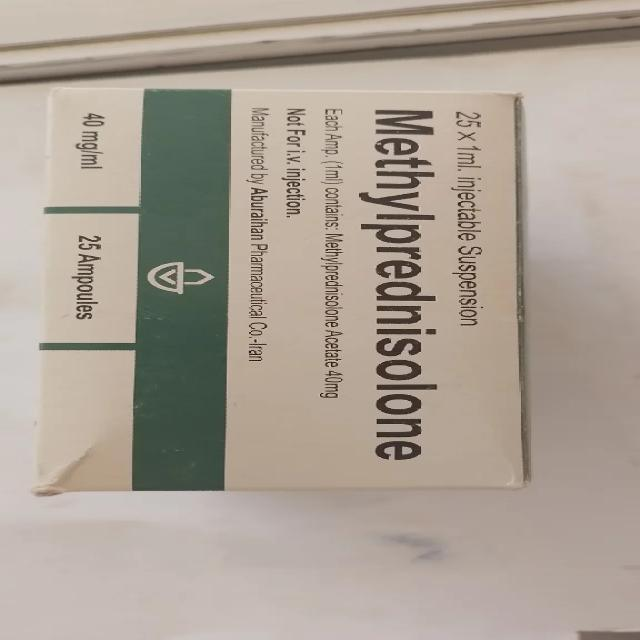drug-name: (355, 105, 438, 464)
